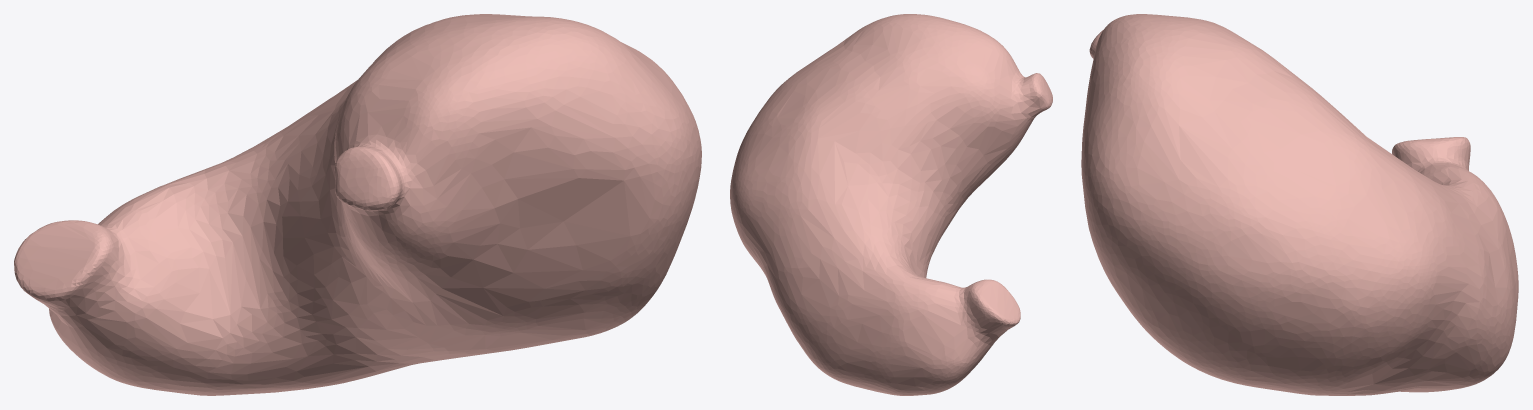
The model's file is organ-stomach.glb.
3 views of the same model, side by side, from view 1: azimuth 30°, elevation 25°; view 2: azimuth 150°, elevation 25°; view 3: azimuth 270°, elevation 25° (orthographic). The views are drawn at different scales.
Parts seen in each view (by area): view 1: FMA7148.stl; view 2: FMA7148.stl; view 3: FMA7148.stl.
Boxes of the visible parts, x1,y1,x2,y2 form: FMA7148.stl: (14,14,701,395); FMA7148.stl: (730,14,1052,395); FMA7148.stl: (1081,14,1518,395).
Size of the model in its own units: 142 by 115 by 120.
